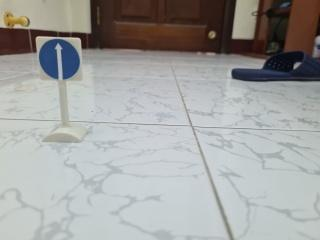straight: (37, 37, 82, 82)
